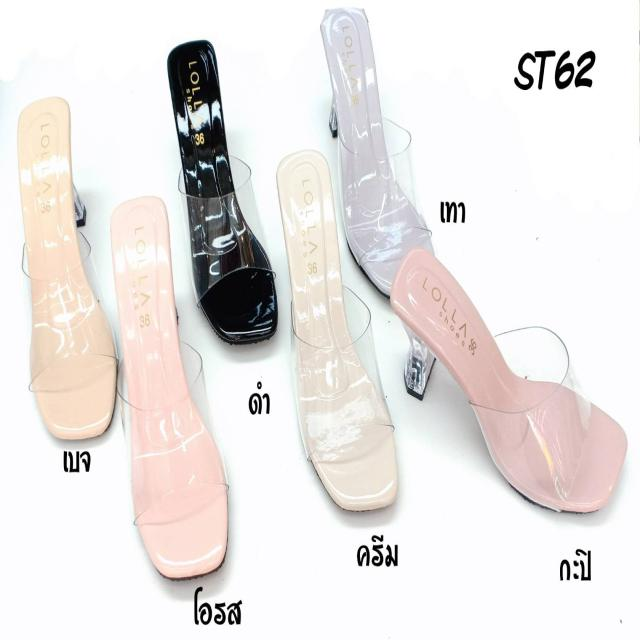bej: (16, 103, 114, 440)
black: (168, 42, 281, 338)
cream: (277, 151, 396, 512)
grey: (326, 3, 434, 300)
kapi: (392, 234, 626, 516)
orot: (111, 200, 229, 568)
